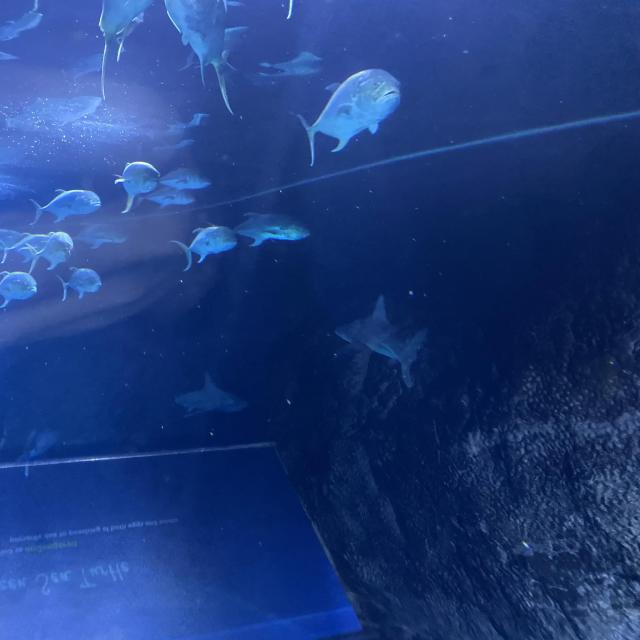fish: (162, 0, 252, 114), (296, 69, 400, 167), (98, 0, 156, 103), (201, 213, 309, 247), (169, 227, 237, 271), (28, 189, 101, 224), (114, 162, 158, 214), (26, 231, 74, 274), (56, 267, 102, 301), (72, 223, 130, 249), (1, 233, 50, 263), (134, 187, 196, 210), (0, 272, 38, 308), (160, 167, 212, 189)
shark: (334, 294, 429, 389), (176, 372, 248, 419)
